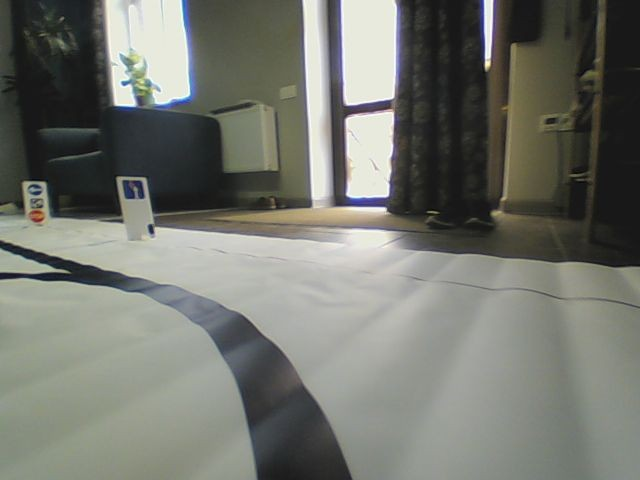priority_movement: (121, 178, 146, 201)
